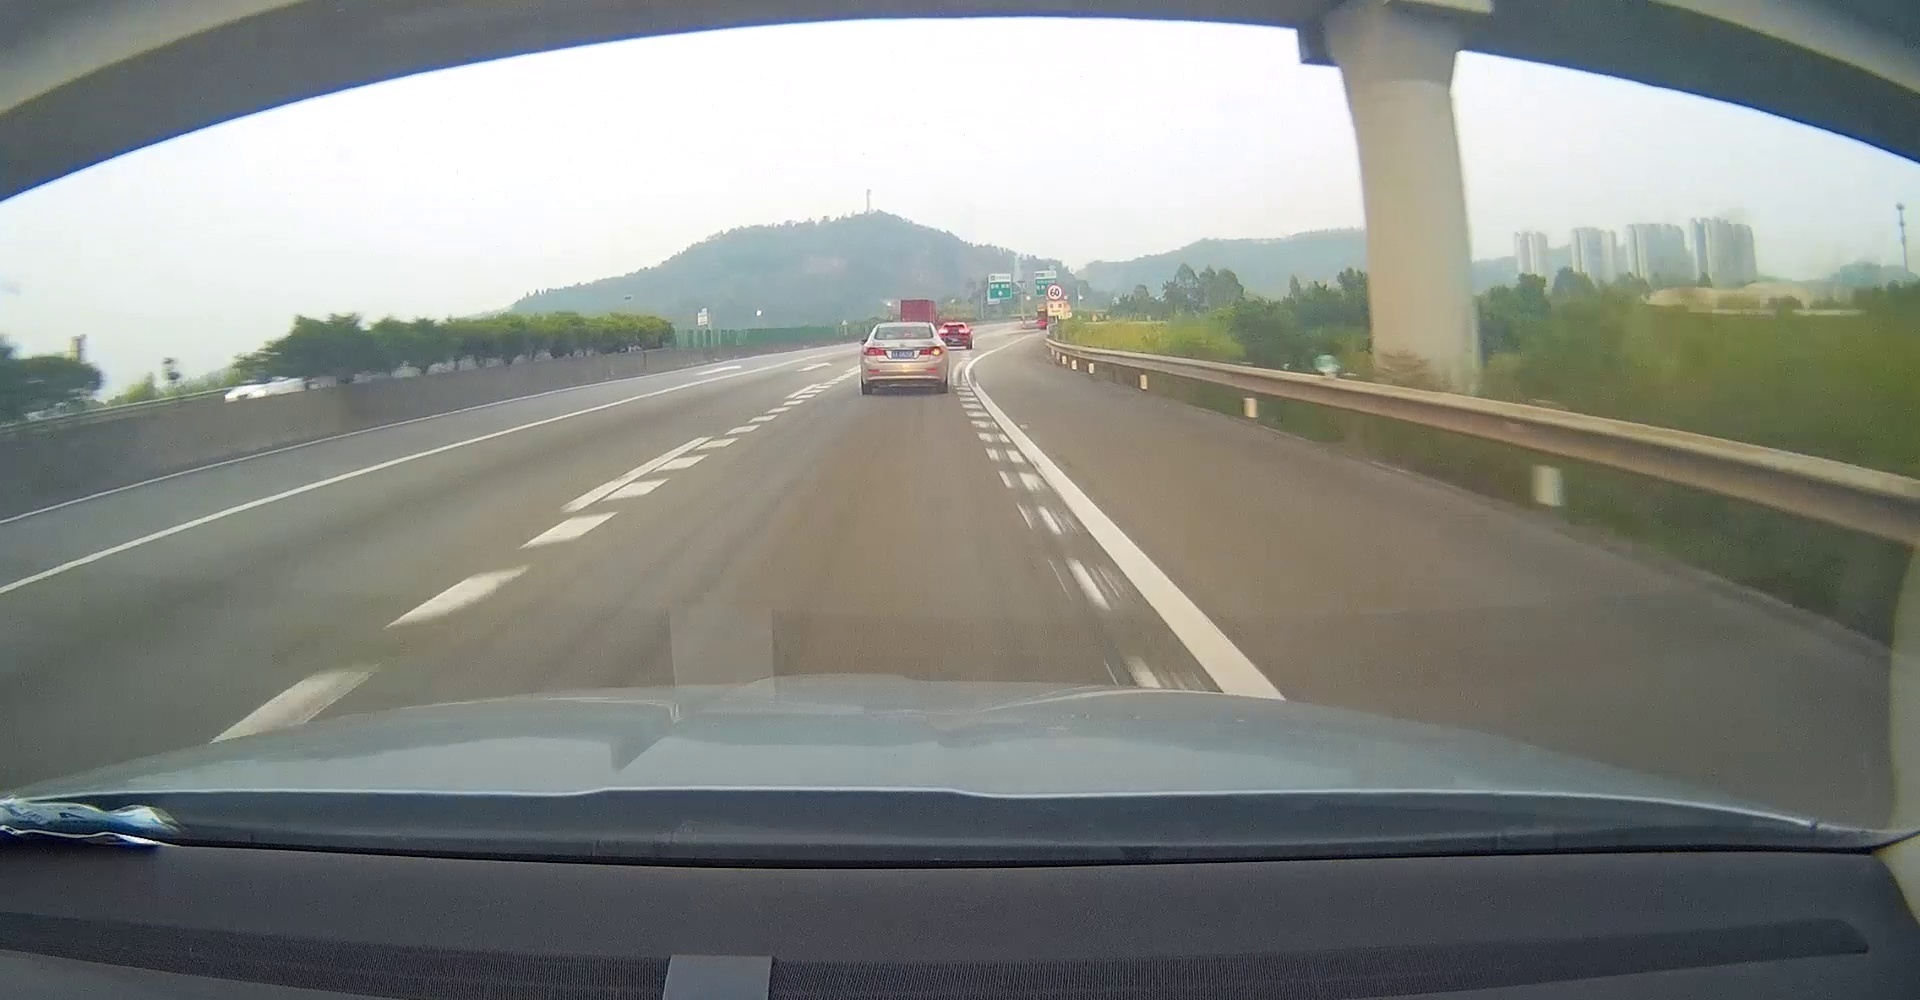L_light: (862, 346, 888, 357)
R_light: (919, 346, 943, 357)
T_light: (895, 338, 910, 339)
day-right: (858, 322, 949, 393)
